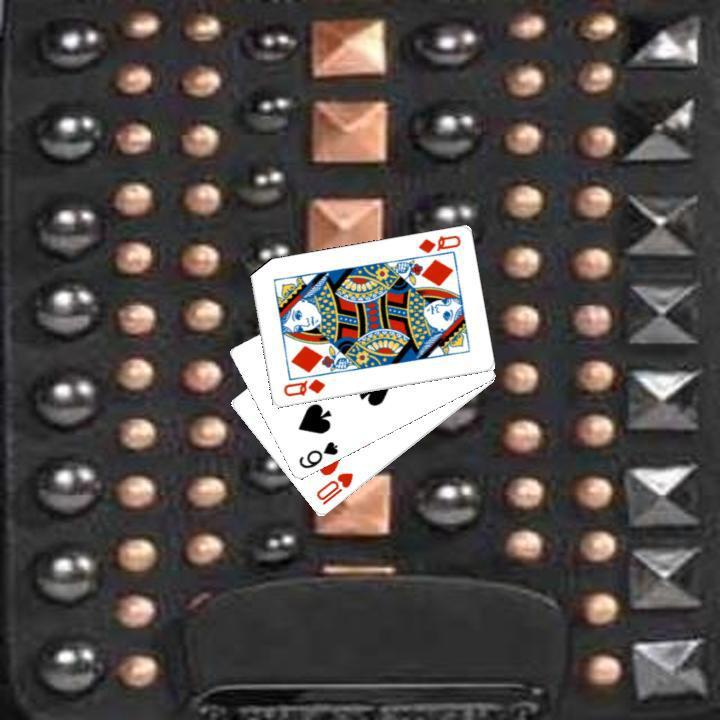10: (312, 468, 355, 507)
6: (294, 437, 340, 471)
Q: (414, 231, 463, 256), (279, 375, 327, 399)
